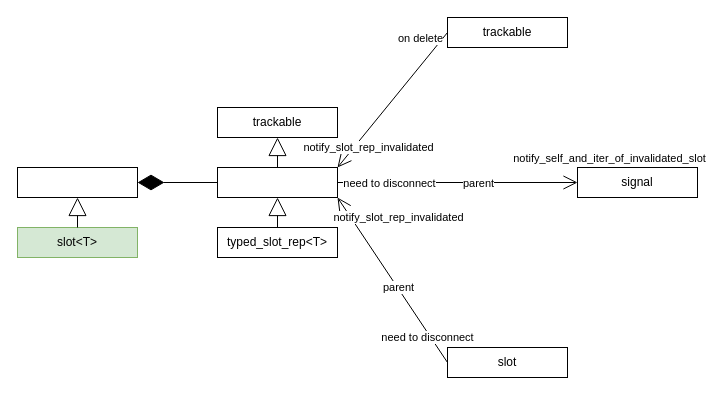
Some shapes in this 723 by 395 pixel diagram are drawn without their labels. Here are the shapes that lost their labels. From the top down, the centre of each, then its label:
[77,182]: slot_base
[277,182]: slot_rep
